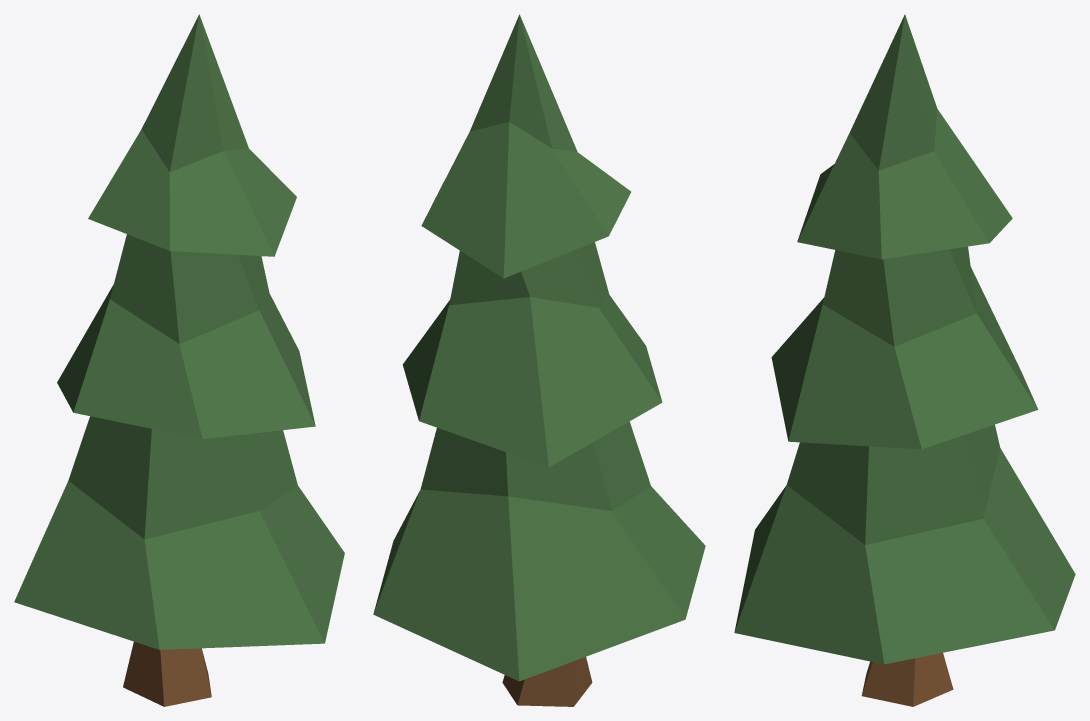
File: forest-spruce-a.glb
3 views of the same model, side by side, from view 1: azimuth 30°, elevation 25°; view 2: azimuth 150°, elevation 25°; view 3: azimuth 270°, elevation 25° (orthographic). The views are drawn at different scales.
Visible parts, largest first — view 1: SpruceTree1; view 2: SpruceTree1; view 3: SpruceTree1.
Part boxes in pixels (x1,y1,x2,y2): SpruceTree1: [14, 14, 344, 706]; SpruceTree1: [373, 14, 705, 706]; SpruceTree1: [734, 14, 1075, 706].
Bounding box in the file's own units: 5.9 × 12.09 × 5.44.
